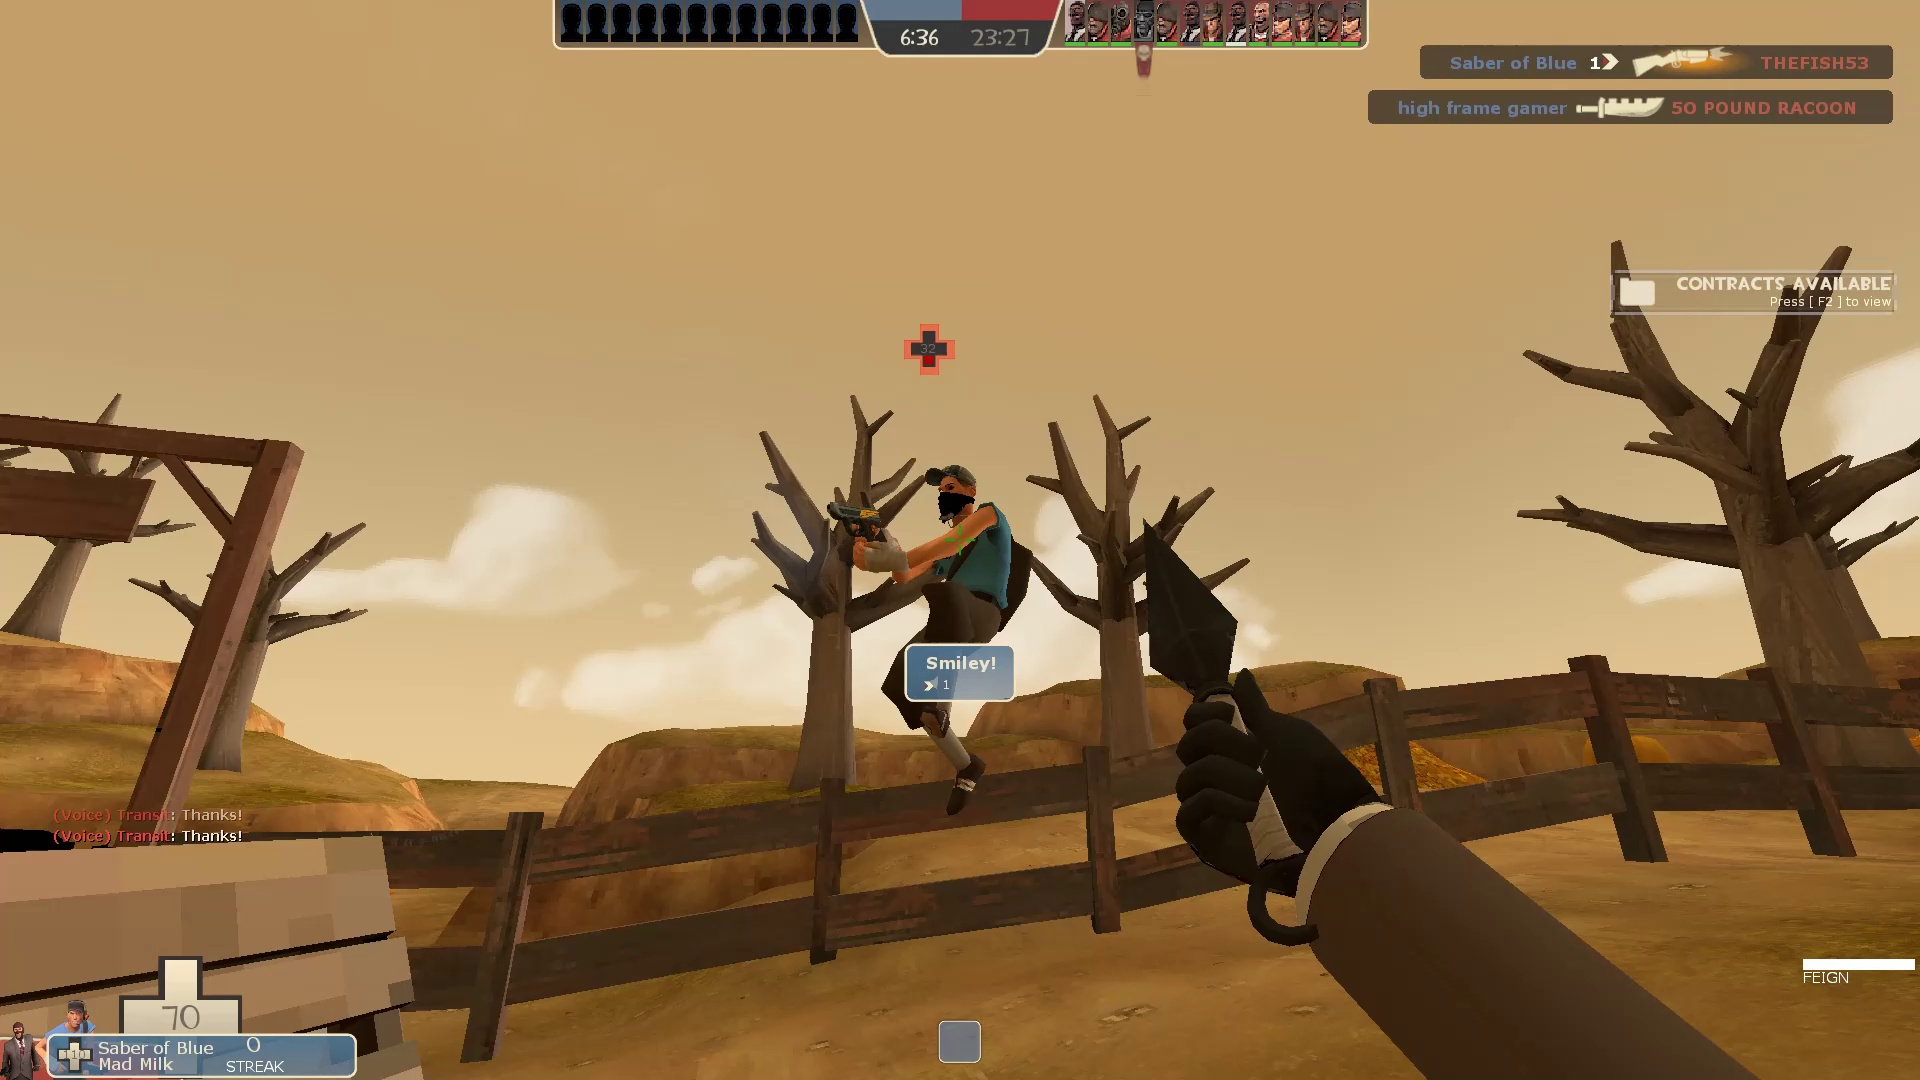blu_scout: (819, 458, 1035, 833)
